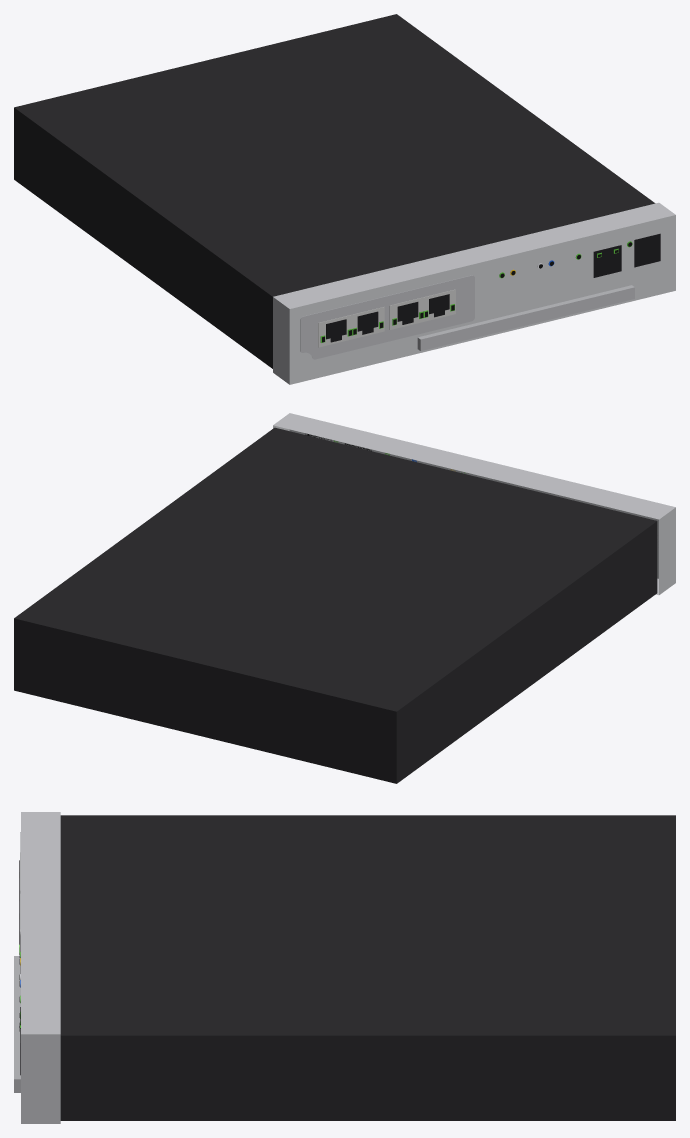
File: ME5-CTRL-ISCSI-10GBT.far.glb
3 views of the same model, one above another, from view 1: azimuth 30°, elevation 25°; view 2: azimuth 150°, elevation 25°; view 3: azimuth 270°, elevation 25° (orthographic). The views are drawn at different scales.
Parts seen in each view (by area): view 1: Controller_far; view 2: Controller_far; view 3: Controller_far.
Part boxes in pixels (x1,y1,x2,y2): Controller_far: (14,14,675,384); Controller_far: (14,413,675,783); Controller_far: (14,812,675,1123).
Bounding box in the file's own units: 0.225 × 0.0422 × 0.283.
2 materials, 1 textured.
